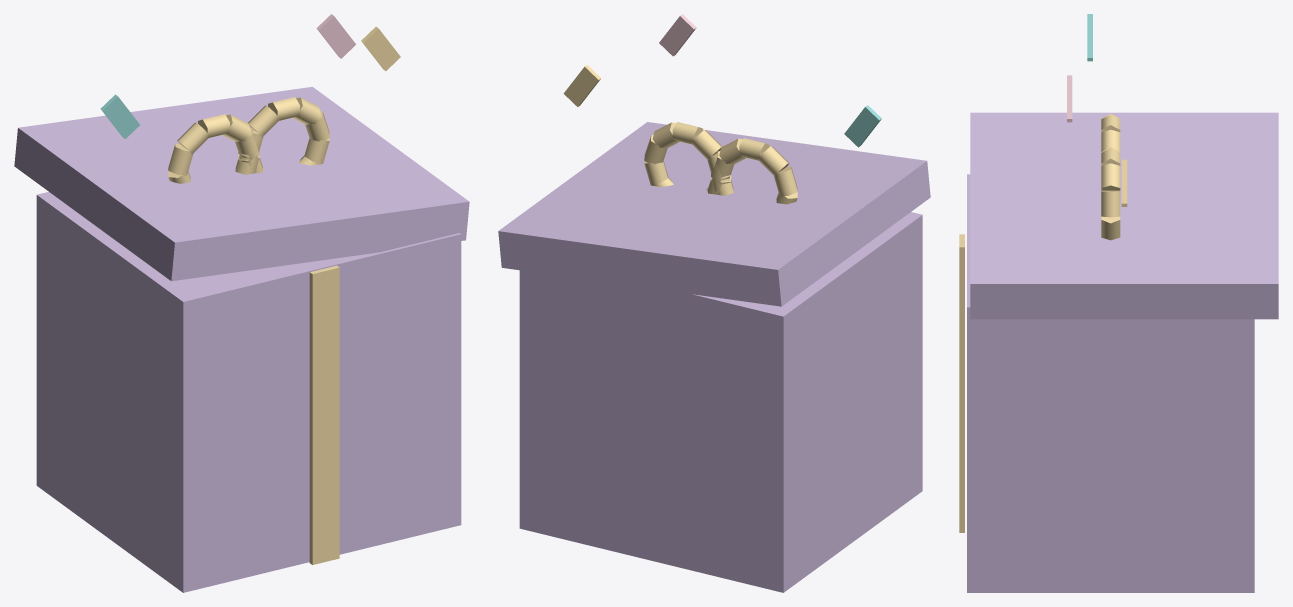
File: 18_caja_misteriosa.glb
3 views of the same model, side by side, from view 1: azimuth 30°, elevation 25°; view 2: azimuth 150°, elevation 25°; view 3: azimuth 270°, elevation 25° (orthographic). The views are drawn at different scales.
Parts seen in each view (by area): view 1: body (×2), lid (×4); view 2: body, lid (×4); view 3: body (×2), lid (×2).
Part boxes in pixels (<box>): body (×2): <box>36,195,461,592</box>; lid (×4): <box>14,14,469,301</box>; body: <box>519,215,922,592</box>; lid (×4): <box>498,14,930,316</box>; body (×2): <box>959,247,1254,592</box>; lid (×2): <box>959,112,1278,319</box>.
Size of the model in its own units: 0.5215 by 0.7753 by 0.466.
